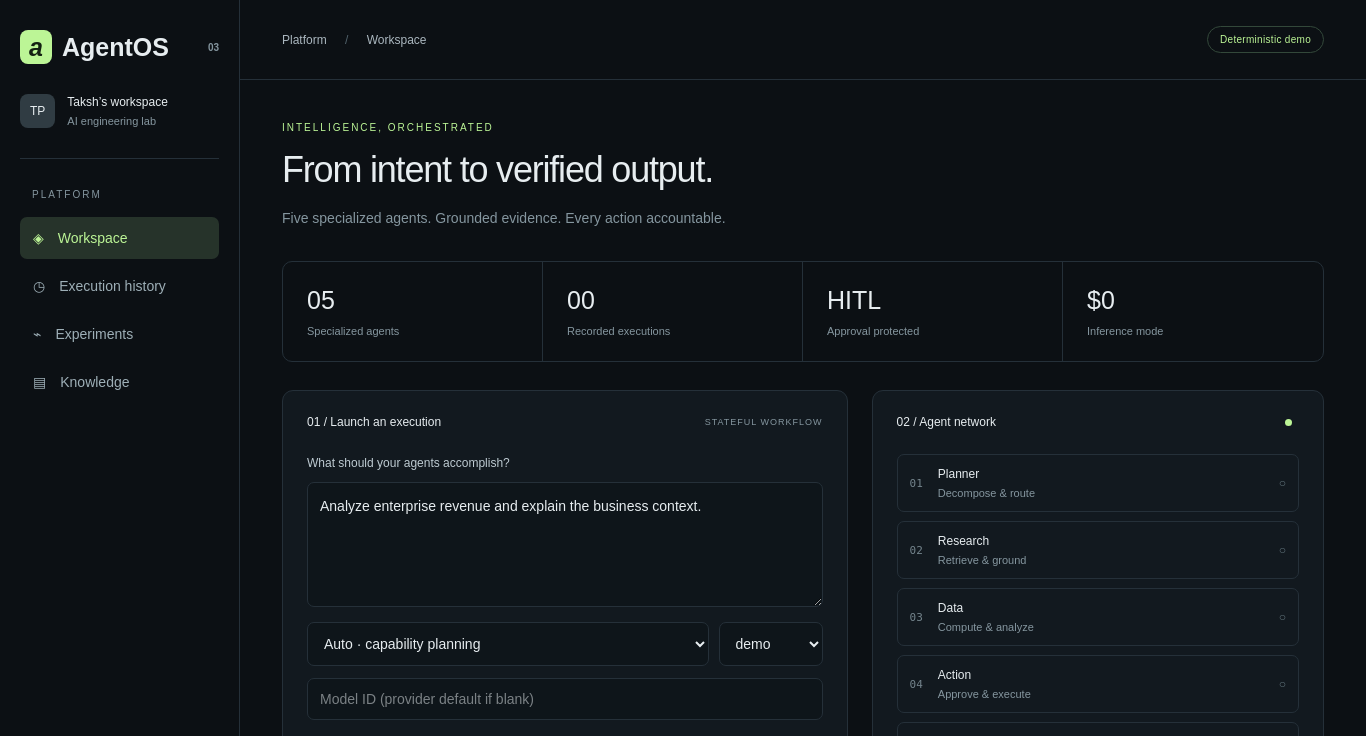
Test: AgentOS console interactions (mocked API, jsdom) › shows separately labeled agent experiment metrics without assuming RAG scores
The width and height of the screenshot is (1366, 736).
Click the button "⌁Experiments": (120, 334) [20,313,219,355]
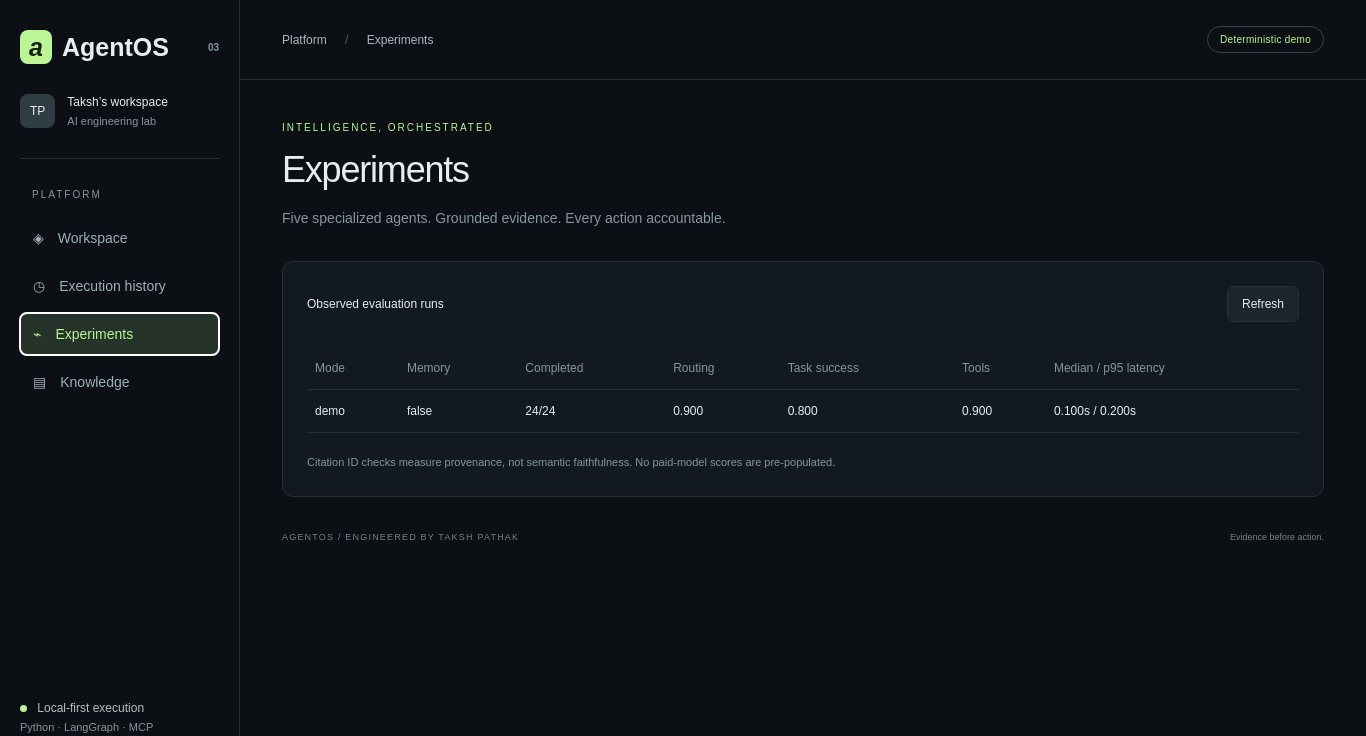
Result: the table is shown at [307,347,1299,433]
Result: the column heading "Task success" is shown at [780,347,954,390]
Result: the text "0.800" is shown at [780,390,954,433]
